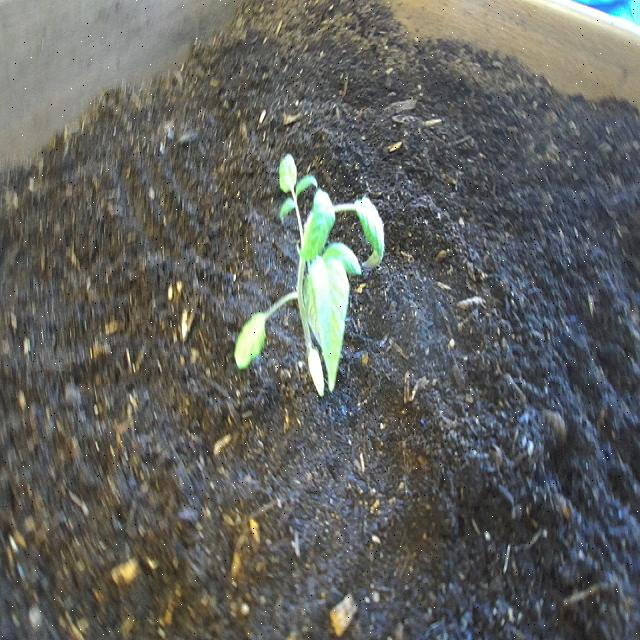Healthy: (233, 152, 388, 405)
